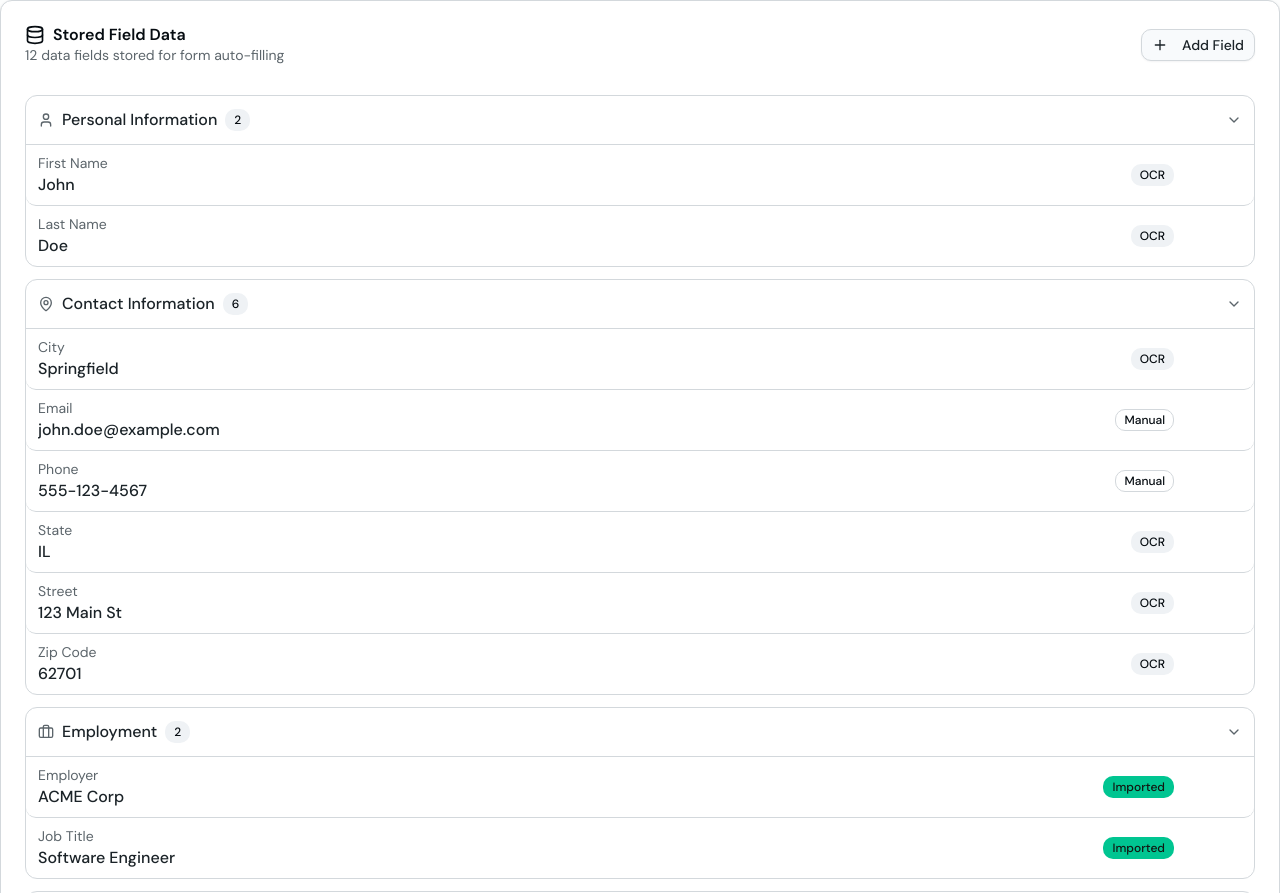
Test: ProfileFieldsManager Component › Add Field › should open add field dialog when Add Field button is clicked
Click the button "Add Field": (1198, 45) 1141,29 -> 1255,61
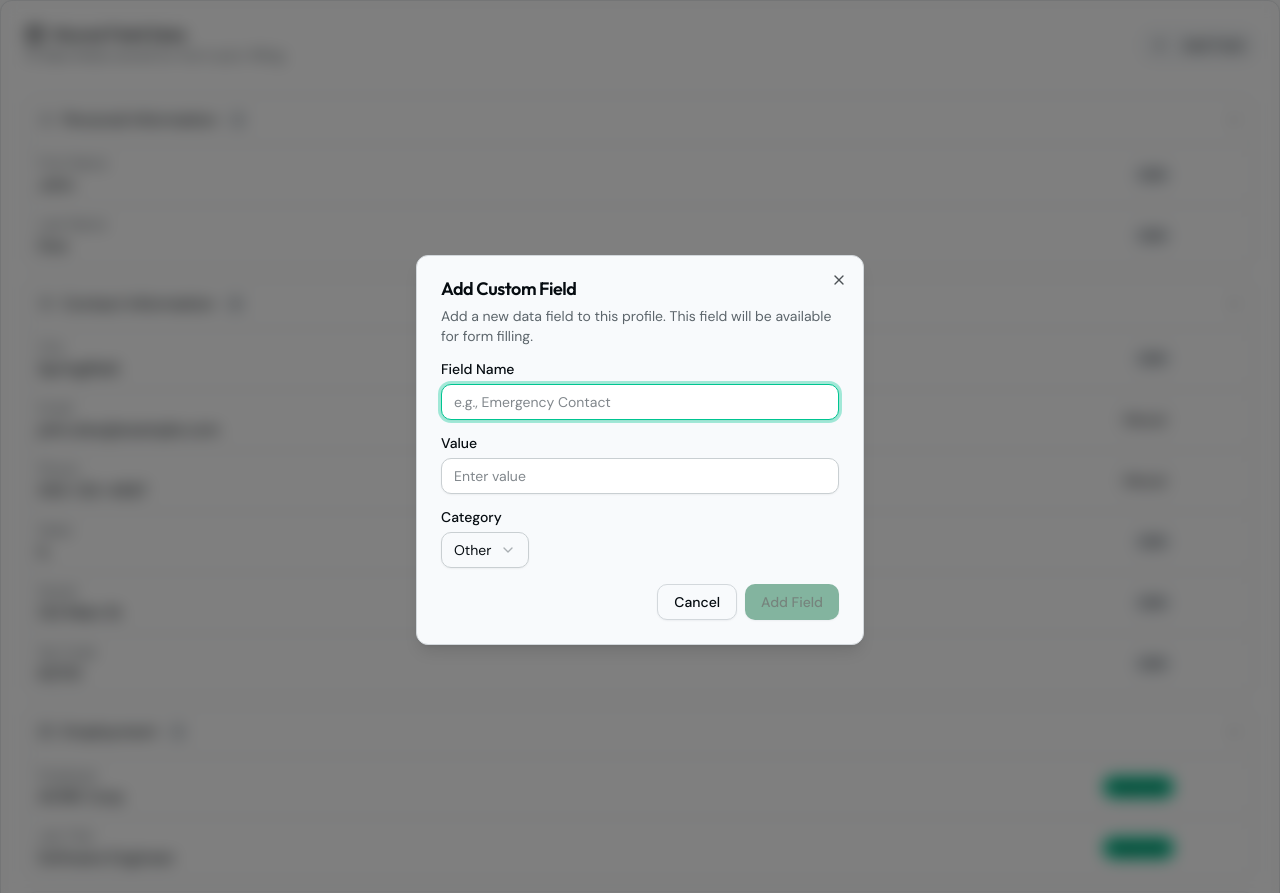
Check: the heading "Add Custom Field" is shown, box 441,277 -> 576,300
Check: the field with placeholder "e.g., Emergency Contact" is shown, box 441,384 -> 839,420
Check: the field with placeholder "Enter value" is shown, box 441,458 -> 839,494
